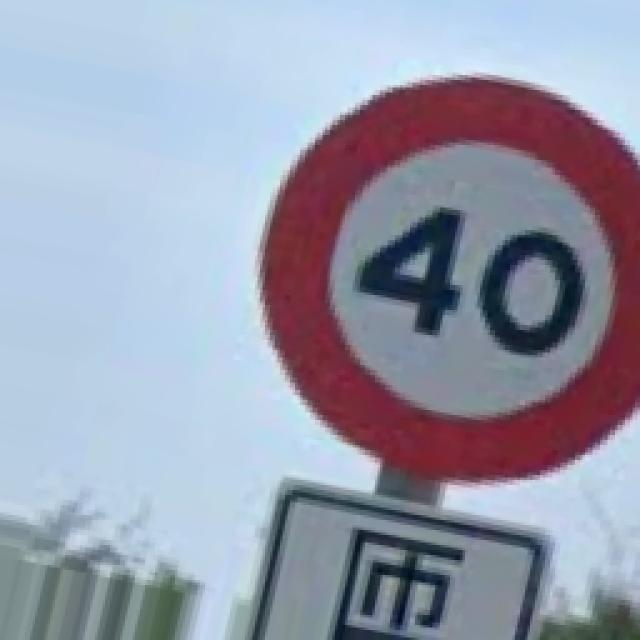Speed Limit -40-: (262, 78, 638, 478)
